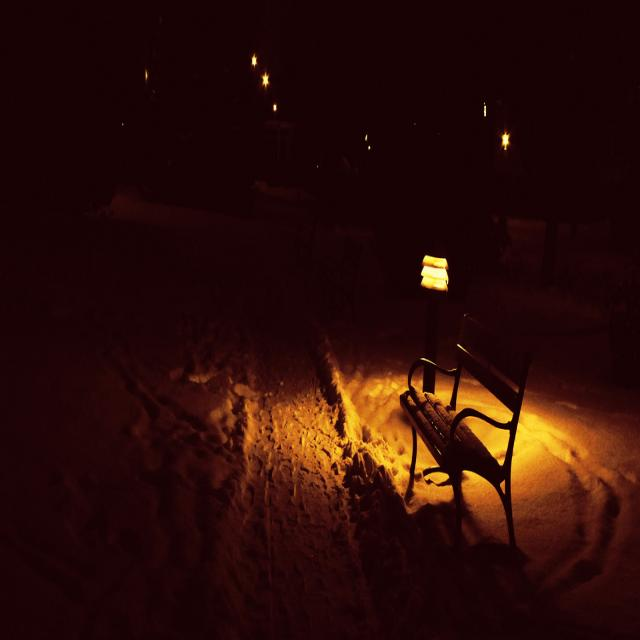chair: (406, 324, 534, 554)
